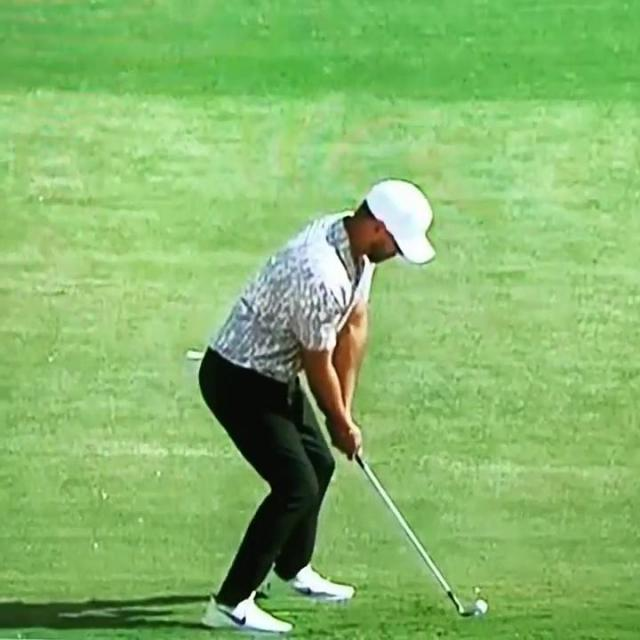ClubHead: (459, 610, 482, 618)
GolfBall: (476, 600, 488, 615)
